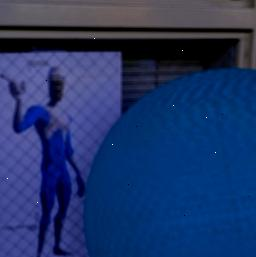algae: (80, 66, 256, 257)
